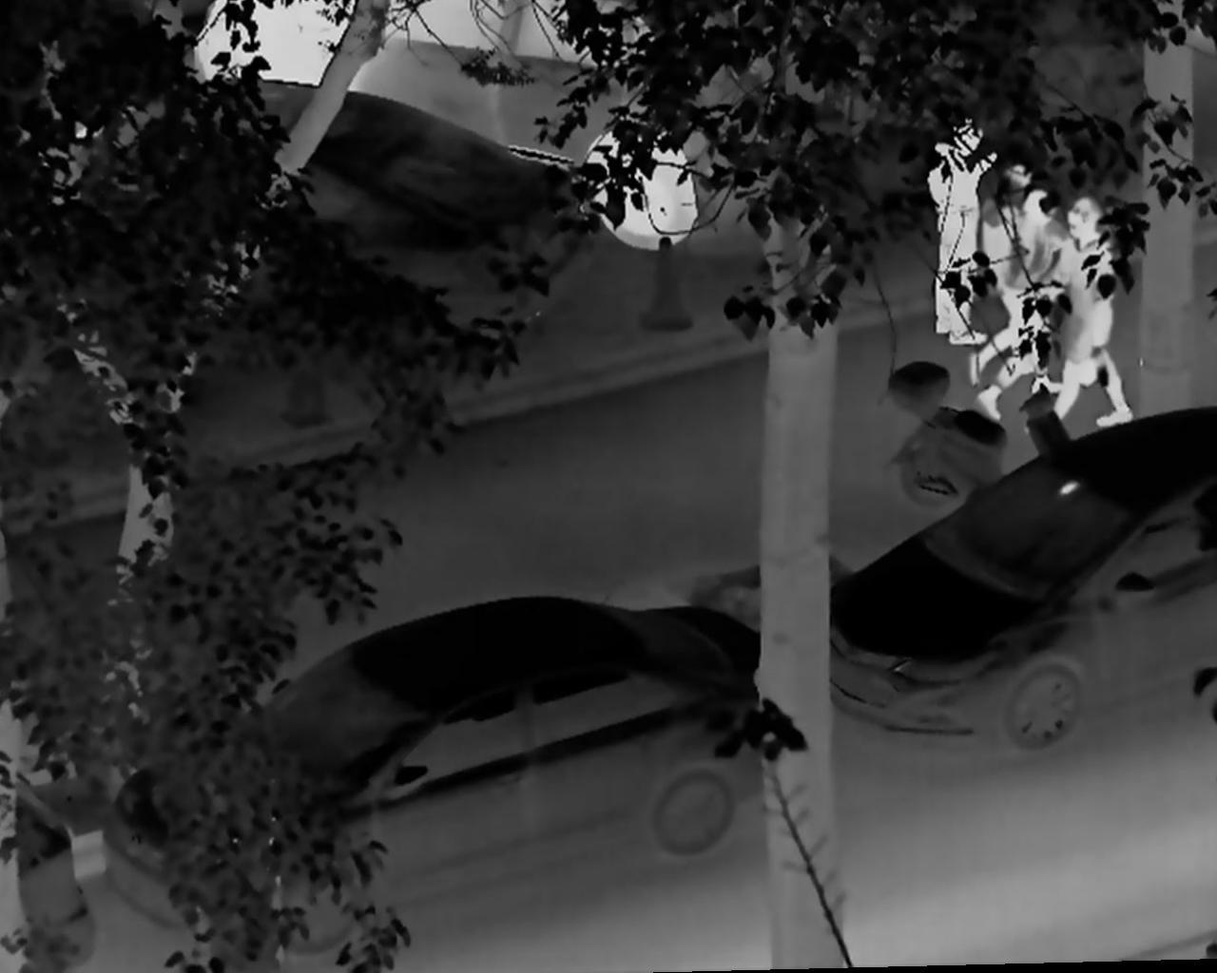person: (1032, 188, 1144, 437), (974, 188, 1070, 425), (921, 115, 993, 348), (967, 158, 1040, 382)
